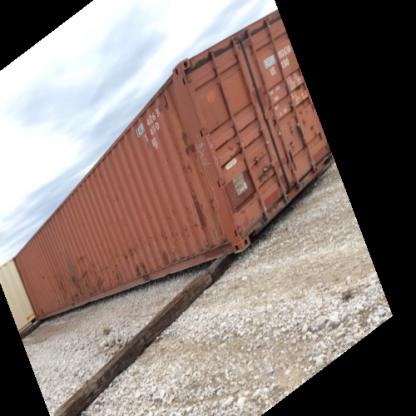Damage: (172, 110, 212, 235), (115, 224, 170, 260), (227, 162, 259, 212), (60, 261, 99, 298), (128, 254, 152, 283), (152, 245, 180, 269), (279, 172, 301, 201)
